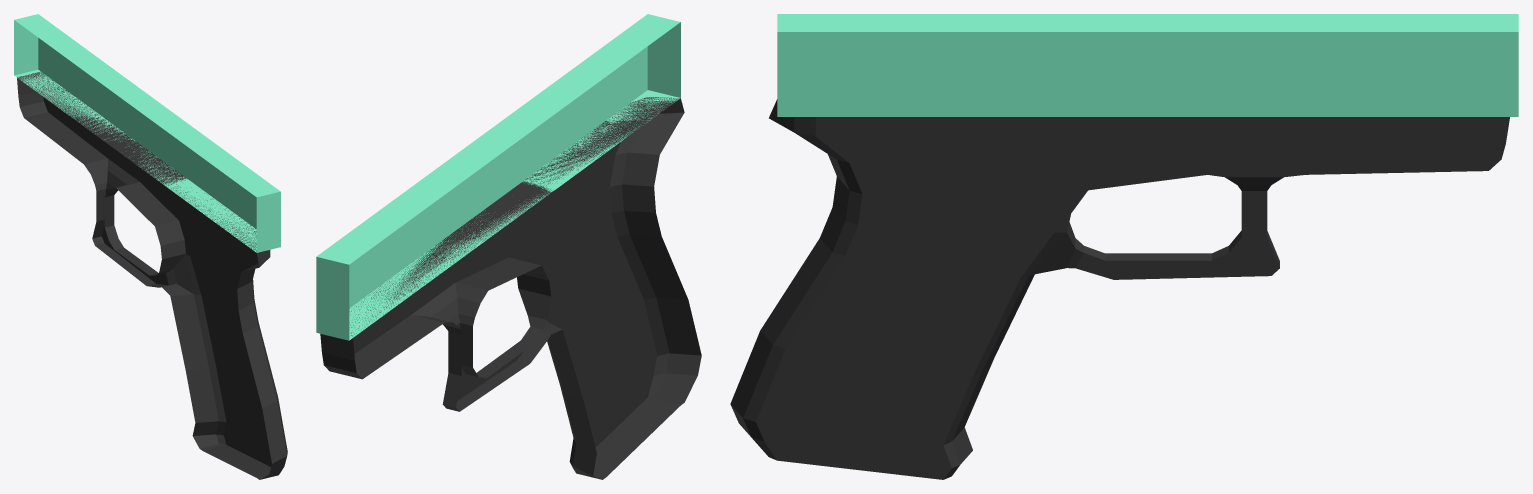
File: test_gun.glb
3 renders of one model, left to right at view 1: azimuth 30°, elevation 25°; view 2: azimuth 150°, elevation 25°; view 3: azimuth 270°, elevation 25°, orthographic. The views are drawn at different scales.
Parts seen in each view (by area): view 1: 立方体.001, 立方体; view 2: 立方体.001, 立方体; view 3: 立方体.001, 立方体.
Part boxes in pixels (x1,y1,x2,y2): 立方体.001: (17,71,287,479); 立方体: (14,14,280,252); 立方体.001: (320,97,701,479); 立方体: (316,14,680,340); 立方体.001: (730,99,1509,479); 立方体: (777,14,1518,116).
Bounding box in the file's own units: 0.01 × 0.116 × 0.185.
2 materials, 1 textured.
